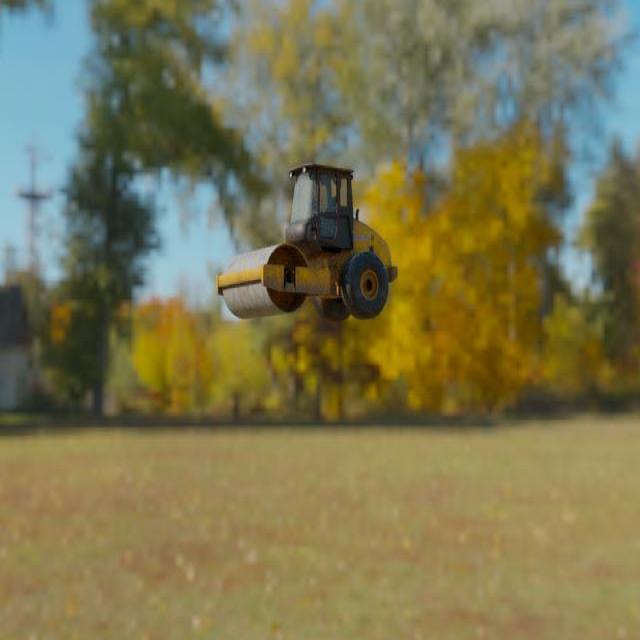Roller: (215, 162, 398, 322)
